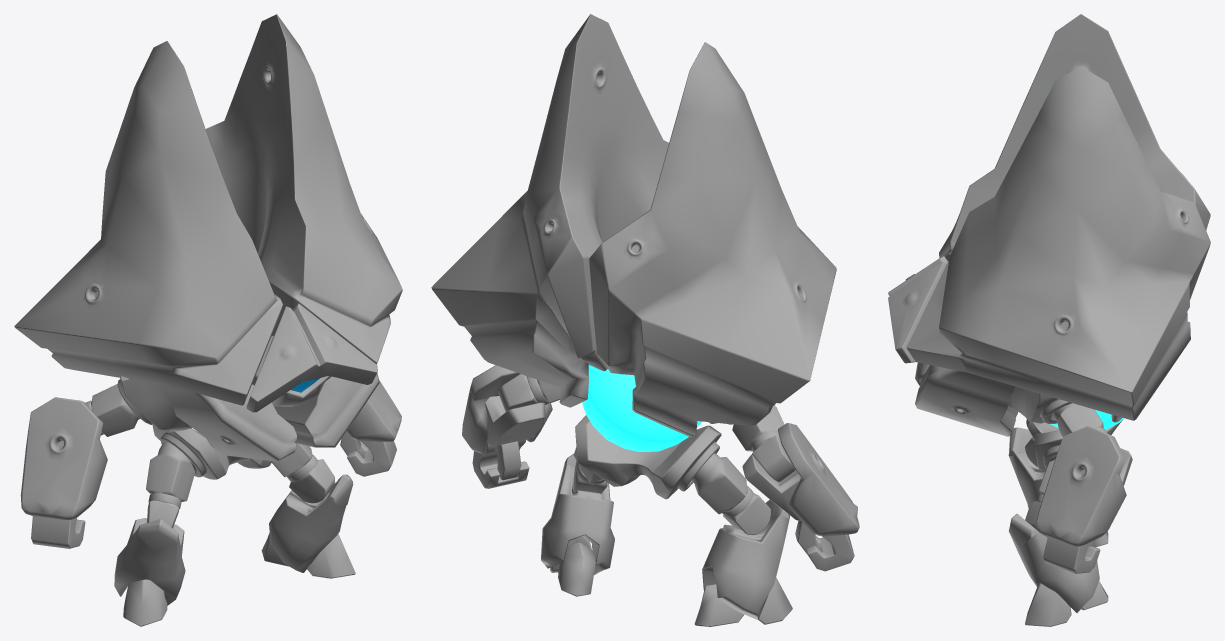
Rendered from Grenadier_Posed.fbx.
The picture shows the model from 3 angles, left to right: view 1: azimuth 30°, elevation 25°; view 2: azimuth 150°, elevation 25°; view 3: azimuth 270°, elevation 25°; orthographic projection. The views are drawn at different scales.
Visible parts, largest first — view 1: Grenadier; view 2: Grenadier; view 3: Grenadier.
Part boxes in pixels (x1,y1,x2,y2): Grenadier: (14, 14, 402, 626); Grenadier: (431, 14, 859, 626); Grenadier: (888, 14, 1210, 626).
Size of the model in its own units: 221 by 304 by 166.
